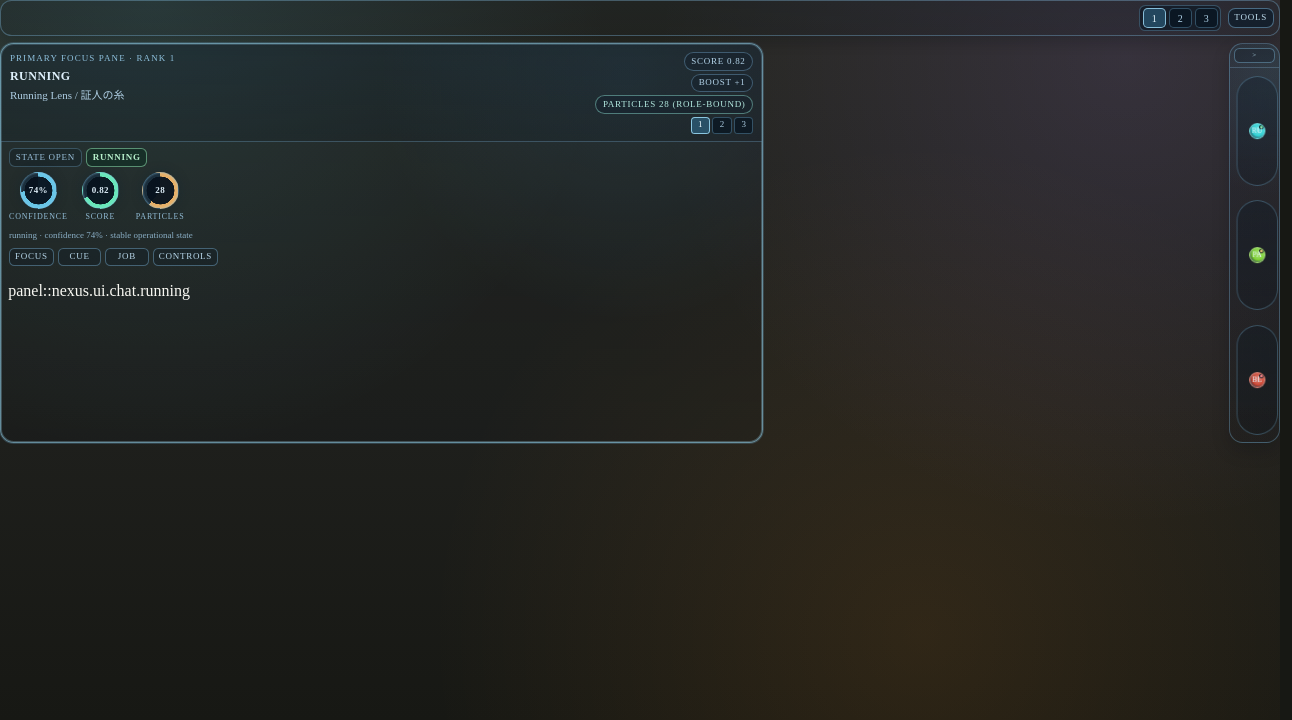
Test: WorldPanelsViewport › filters the presence rail by status and search query
Click the button named "expand rail". click: (1254, 56)
box: [1234,48,1275,63]
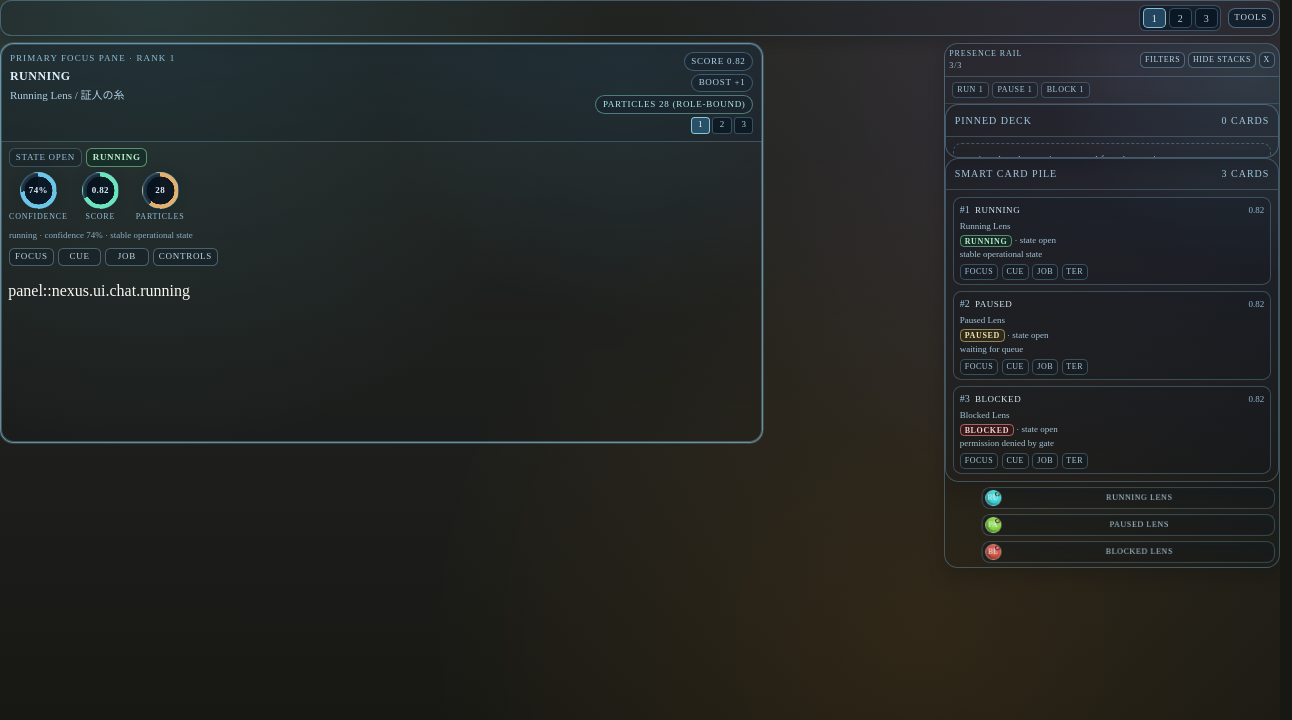
Click the button "filters". click: (1163, 60)
box: [1140,52,1185,68]
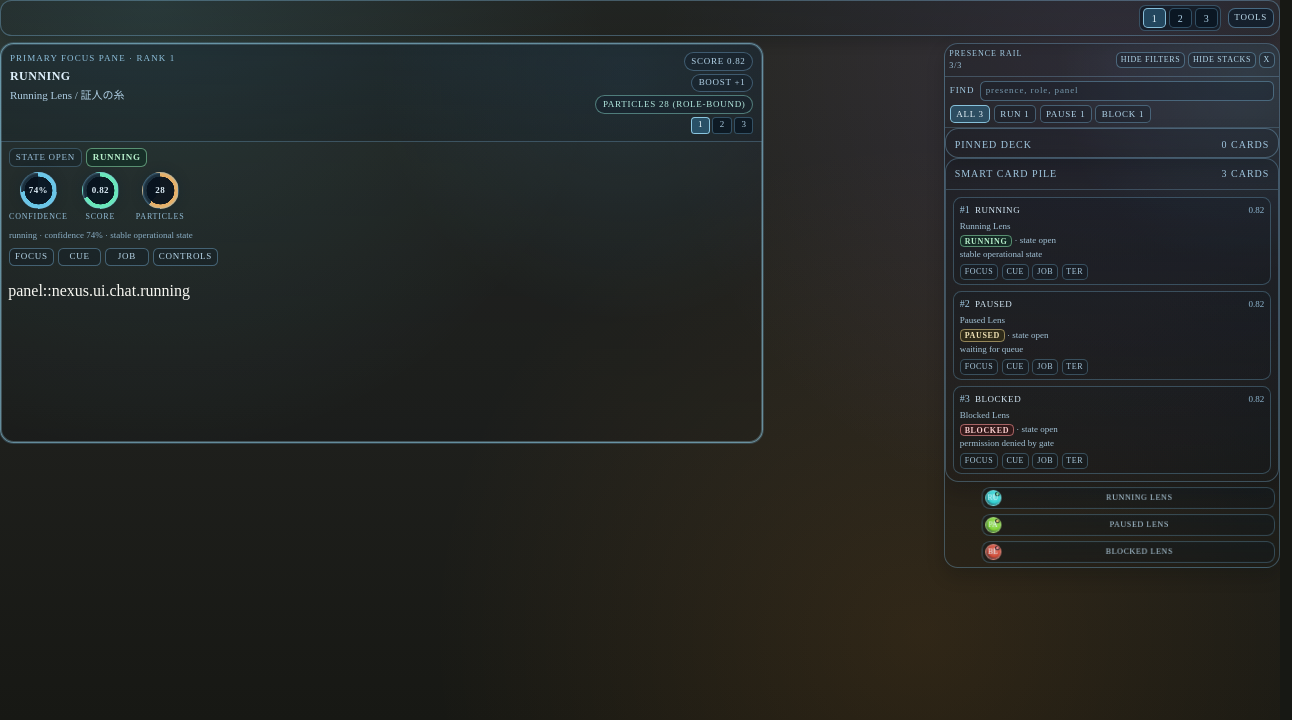
Click the button "block 1". click: (1123, 114)
box: [1095,105,1151,123]
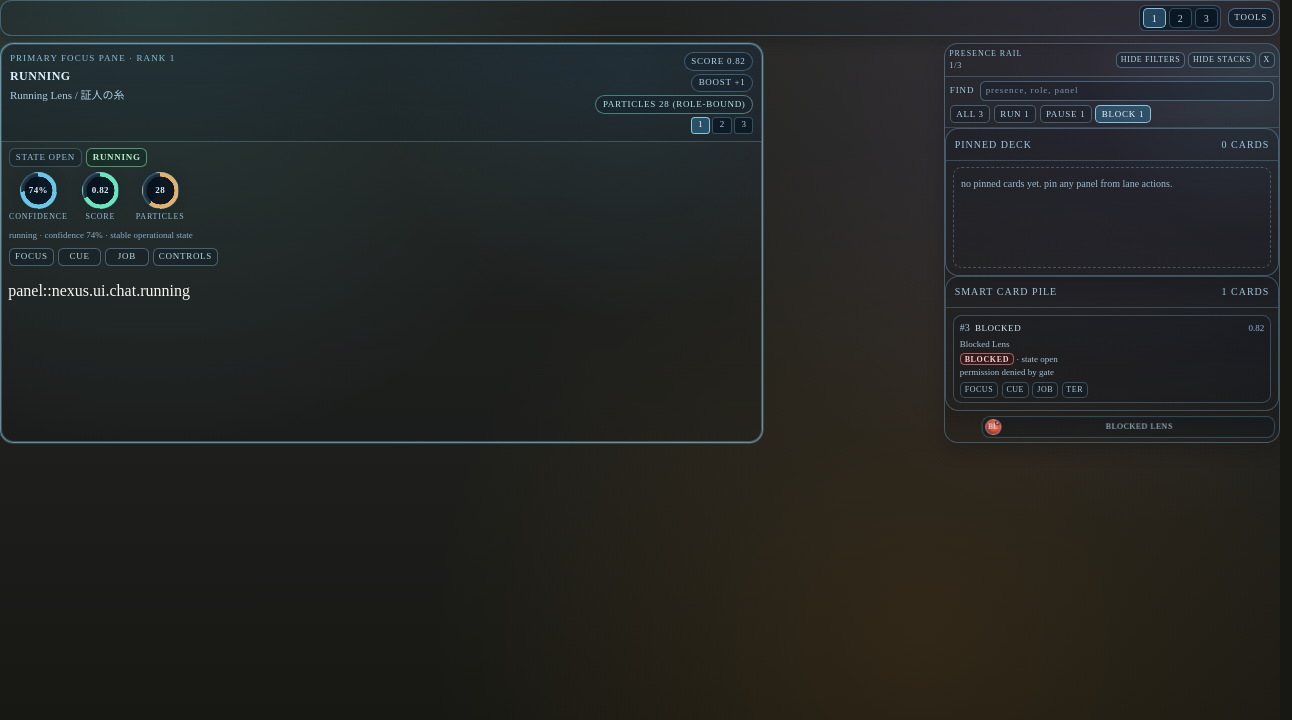
Expected: the button "BL Blocked Lens" is shown, [982,416,1275,438]
Type "zzz-no-match" into the field with placeholder "presence, role, panel". click: (1127, 91)
box: [980,81,1274,101]
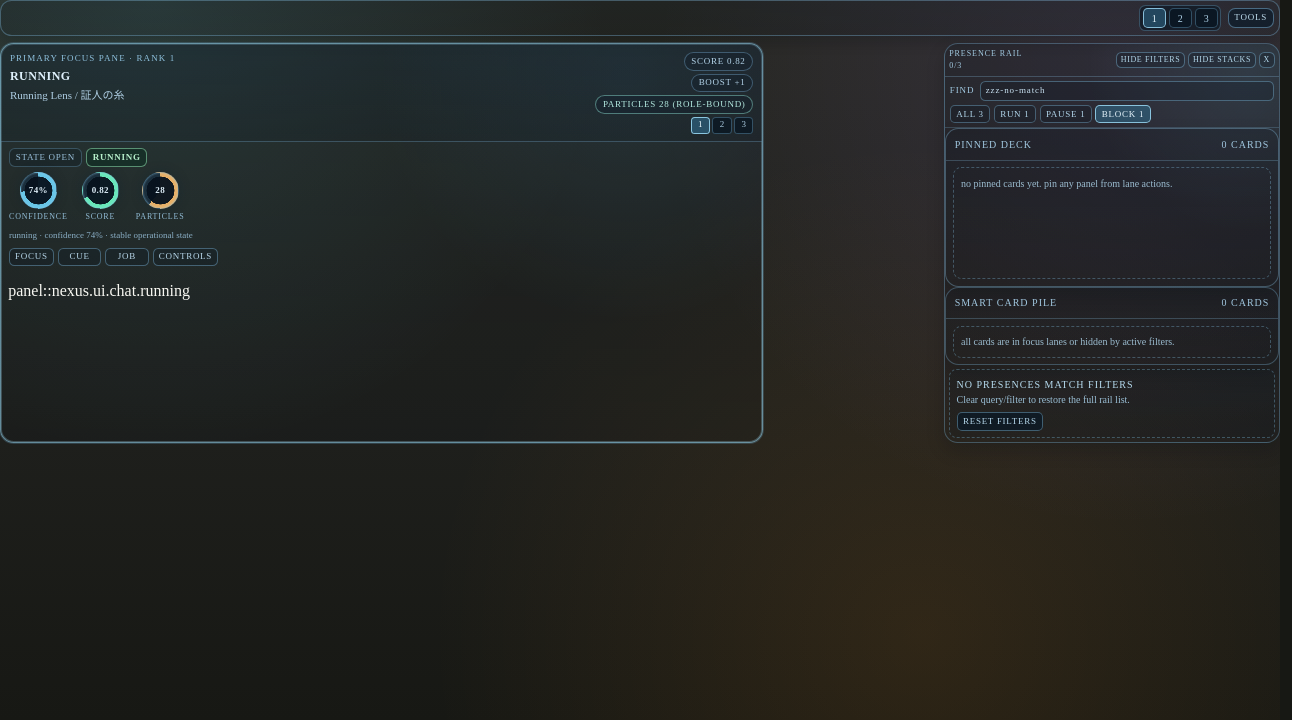
Expected: the text "no presences match filters" is shown, [956,379,1134,390]
Click the button "reset filters". click: (1000, 422)
box: [956,412,1043,431]
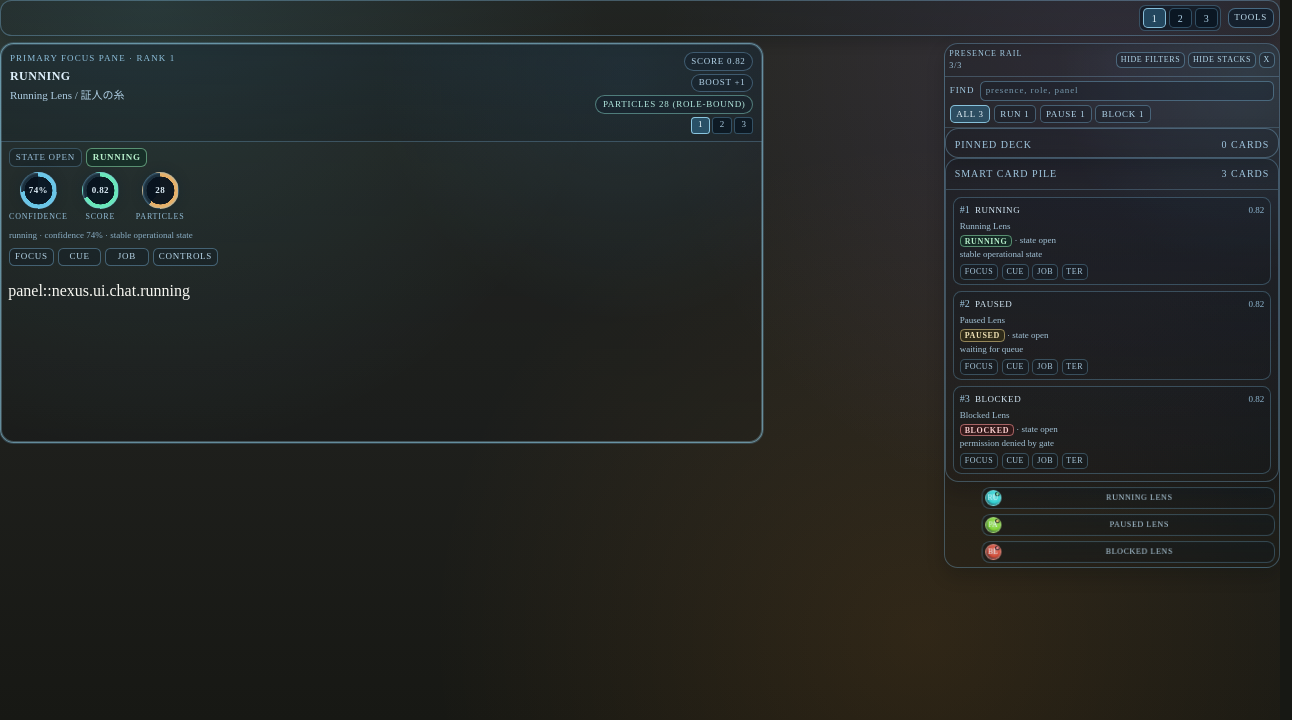
Expected: the button "RU Running Lens" is shown, [982,487,1275,508]
Expected: the button "PA Paused Lens" is shown, [982,514,1275,535]
Expected: the button "BL Blocked Lens" is shown, [982,541,1275,562]
